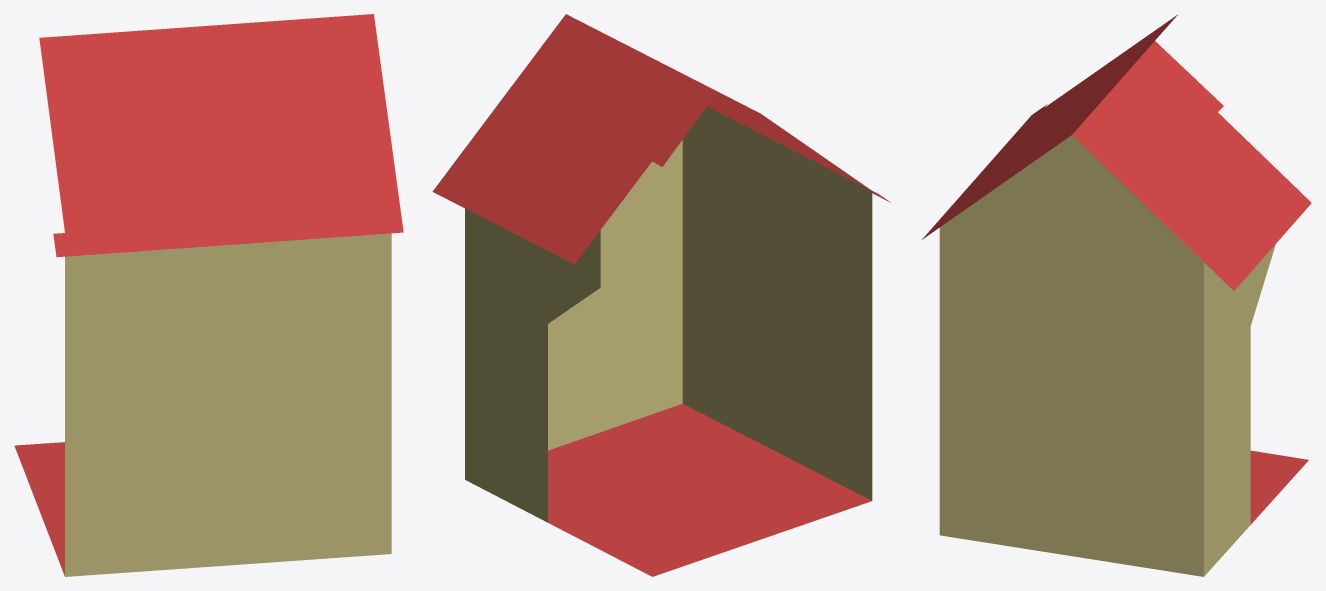
3 renders of one model, left to right at view 1: azimuth 30°, elevation 25°; view 2: azimuth 150°, elevation 25°; view 3: azimuth 270°, elevation 25°, orthographic. The views are drawn at different scales.
Size of the model in its own units: 12.52 by 11.83 by 14.2.
